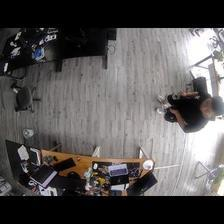normal: (154, 90, 224, 132)
